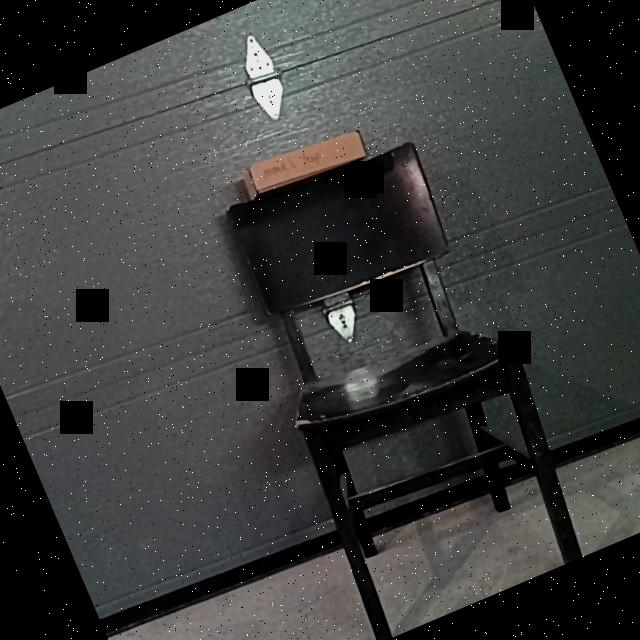box: (248, 125, 366, 198)
